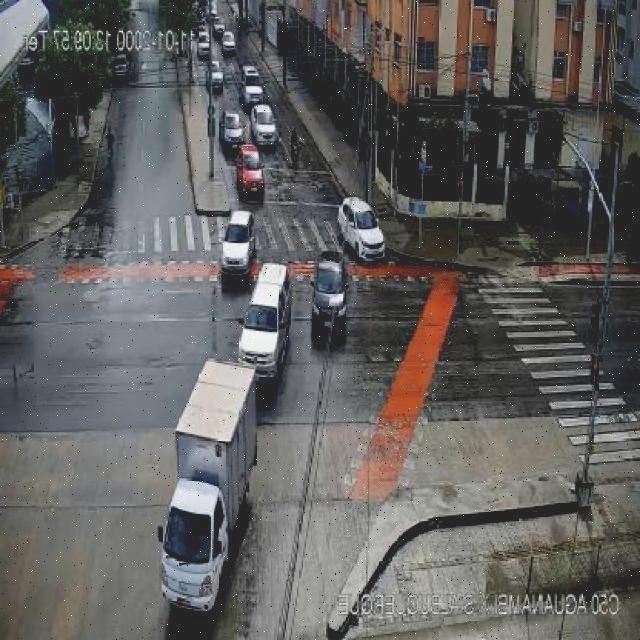Car: (232, 258, 292, 390), (330, 194, 393, 260), (216, 200, 258, 276), (312, 262, 348, 346), (234, 144, 266, 200), (250, 104, 278, 147), (220, 110, 246, 151), (242, 85, 264, 113), (111, 54, 129, 84), (241, 66, 261, 89), (209, 66, 224, 92), (221, 30, 236, 55), (197, 34, 211, 60), (212, 19, 225, 40), (197, 26, 209, 43)
Truck: (151, 362, 265, 616)
